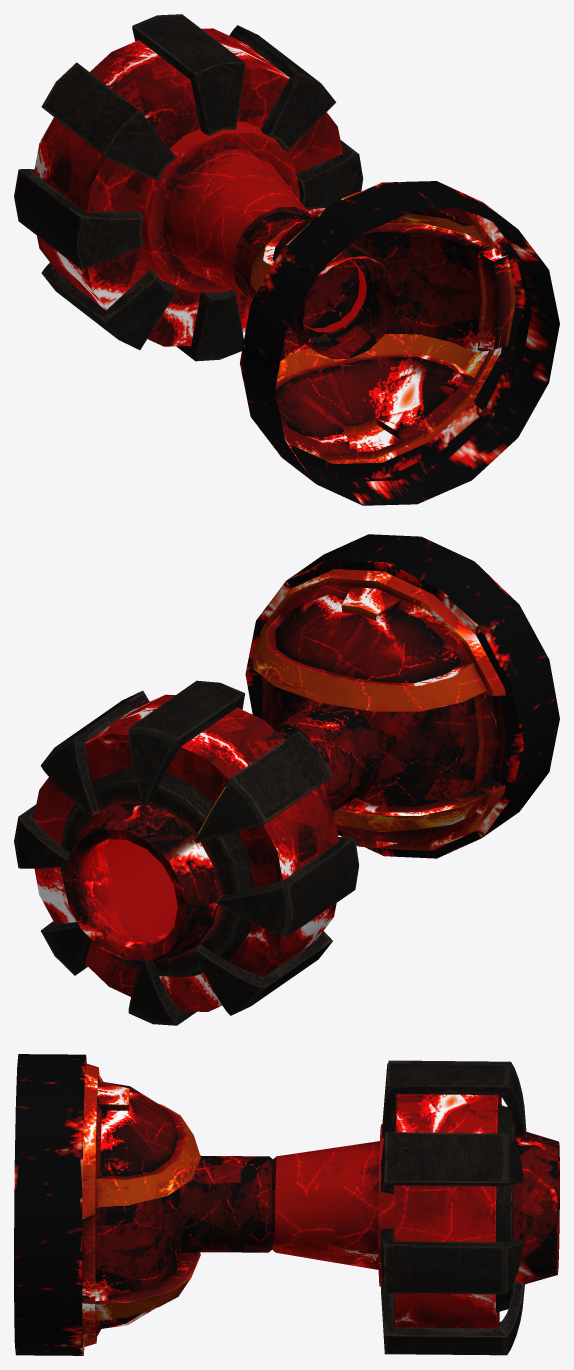
File: Cannon_01.fbx
3 views of the same model, one above another, from view 1: azimuth 30°, elevation 25°; view 2: azimuth 150°, elevation 25°; view 3: azimuth 270°, elevation 25° (orthographic). The views are drawn at different scales.
Parts seen in each view (by area): view 1: Cannon_low, CannonBase_low; view 2: Cannon_low, CannonBase_low; view 3: Cannon_low, CannonBase_low.
Boxes of the visible parts, bbox=[...] form: Cannon_low: bbox=[14, 14, 397, 361]; CannonBase_low: bbox=[240, 181, 559, 505]; Cannon_low: bbox=[14, 680, 380, 1025]; CannonBase_low: bbox=[245, 534, 559, 858]; Cannon_low: bbox=[180, 1060, 559, 1355]; CannonBase_low: bbox=[14, 1054, 200, 1355].
Bounding box in the file's own units: 55.44 × 54.83 × 98.48.
